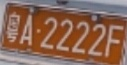A: (20, 15, 32, 45)
